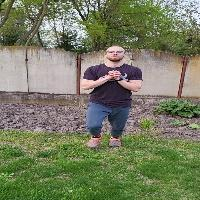lunges: (77, 42, 149, 151)
